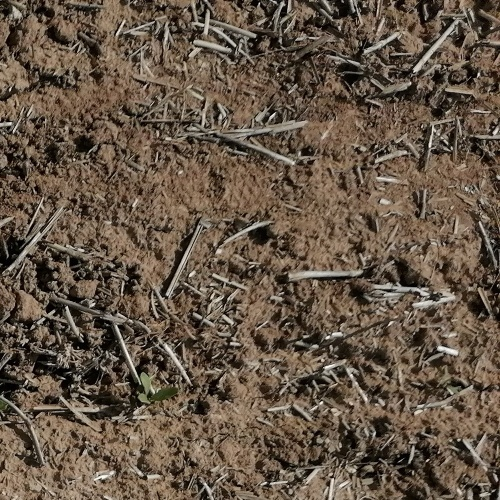beet: (136, 369, 179, 407)
